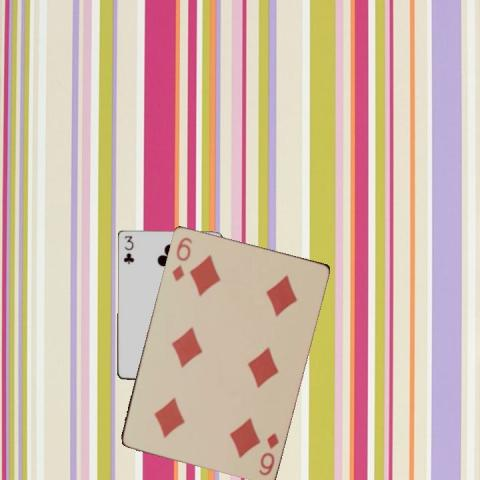3c: (120, 234, 134, 266)
6d: (169, 233, 194, 283), (256, 429, 281, 477)
